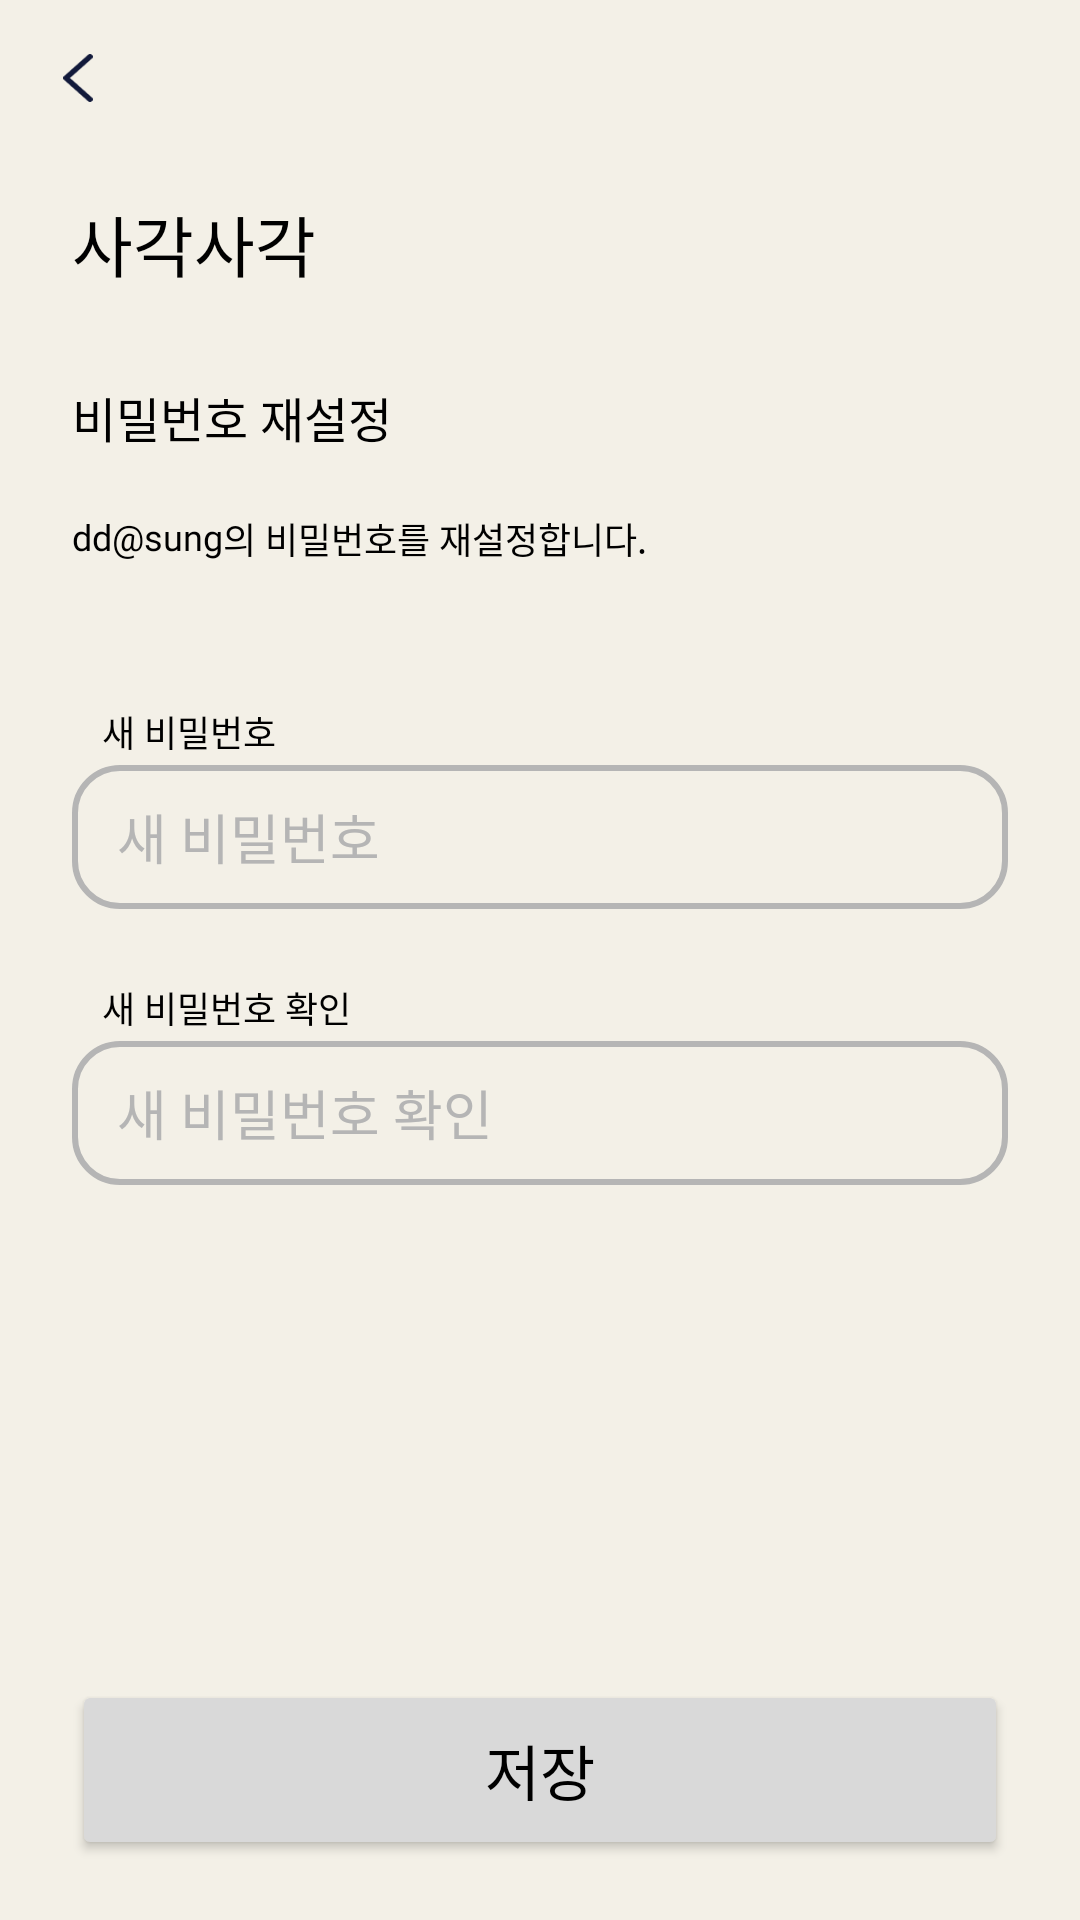

Icon click points for this 1080x1920 phone screenshot, format (x,y):
arrow: (78,78)
